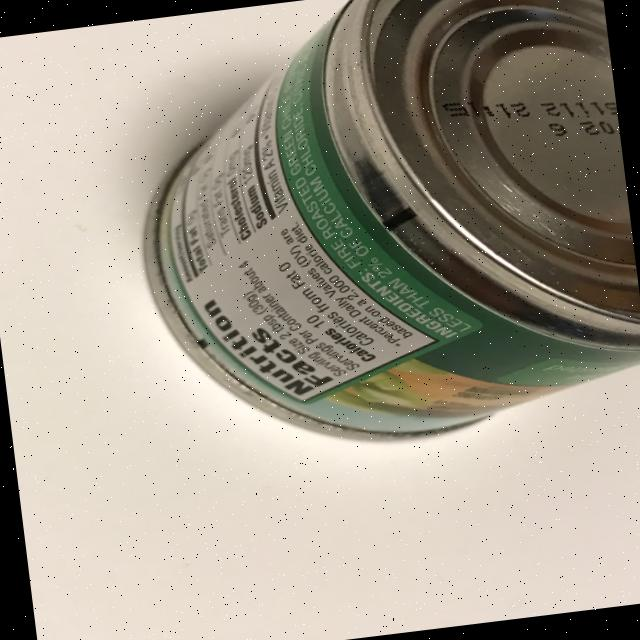metal: (112, 0, 640, 468)
